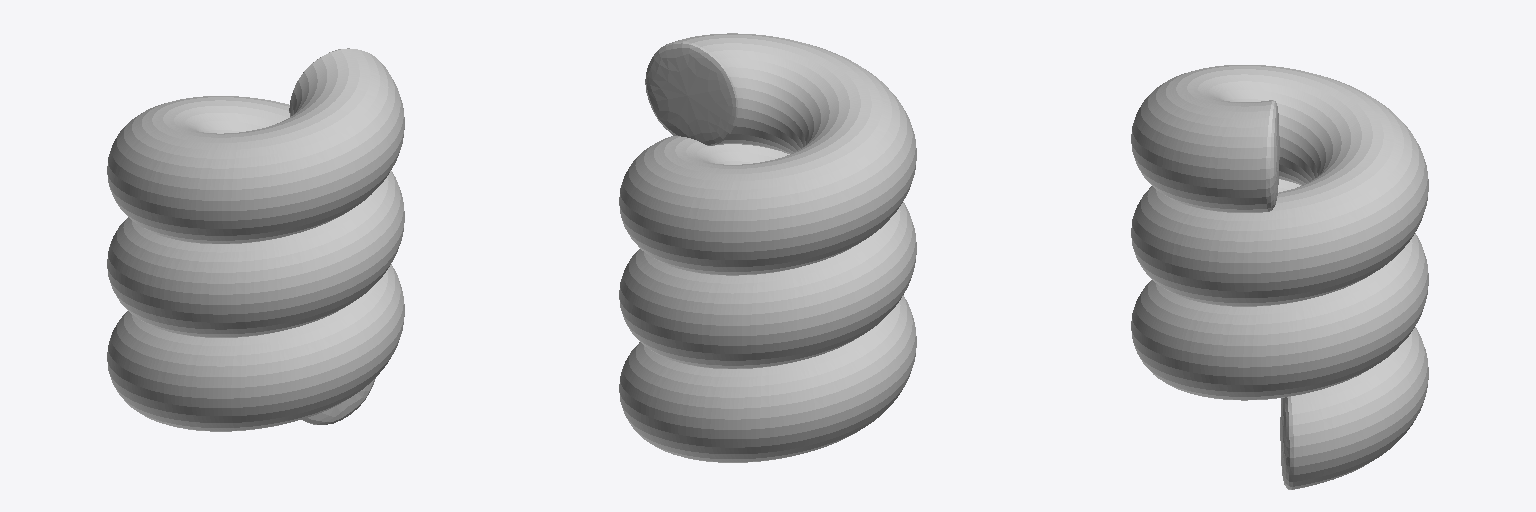
File: helix_12.5.obj
3 views of the same model, side by side, from view 1: azimuth 30°, elevation 25°; view 2: azimuth 150°, elevation 25°; view 3: azimuth 270°, elevation 25° (orthographic).
Parts seen in each view (by area): view 1: helix:pHelix1; view 2: helix:pHelix1; view 3: helix:pHelix1.
Part boxes in pixels (left/top/right/bottom): helix:pHelix1: left=107, top=48, right=404, bottom=431; helix:pHelix1: left=619, top=33, right=916, bottom=462; helix:pHelix1: left=1131, top=65, right=1428, bottom=489.
Bounding box in the file's own units: 1.92 × 2.71 × 1.92.